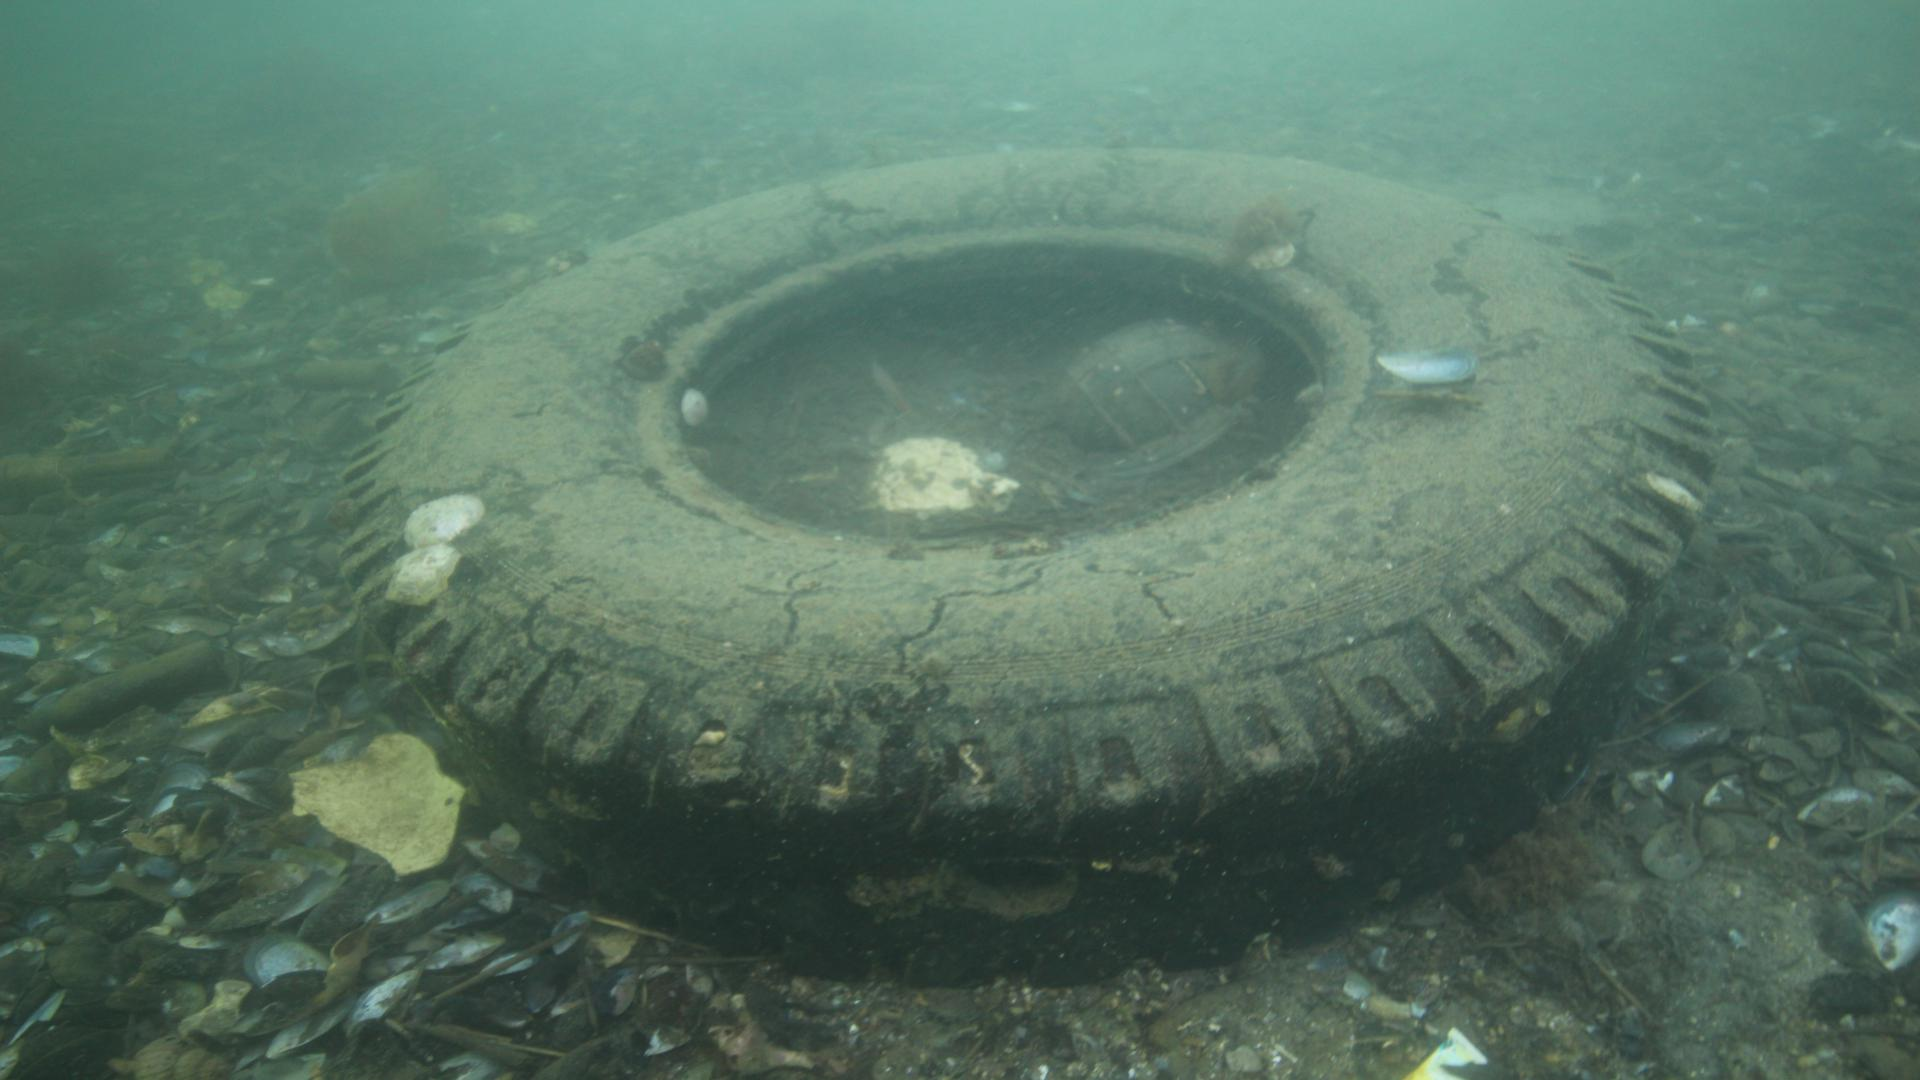tire: (342, 142, 1716, 986)
